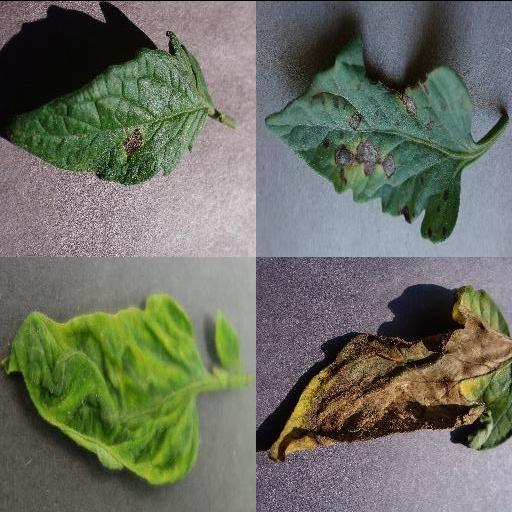Early Blight: (263, 33, 475, 241), (6, 28, 216, 185)
Late Blight: (266, 284, 512, 462)
Yellow Leaf Curl Virus: (3, 293, 203, 485), (212, 304, 240, 366)
